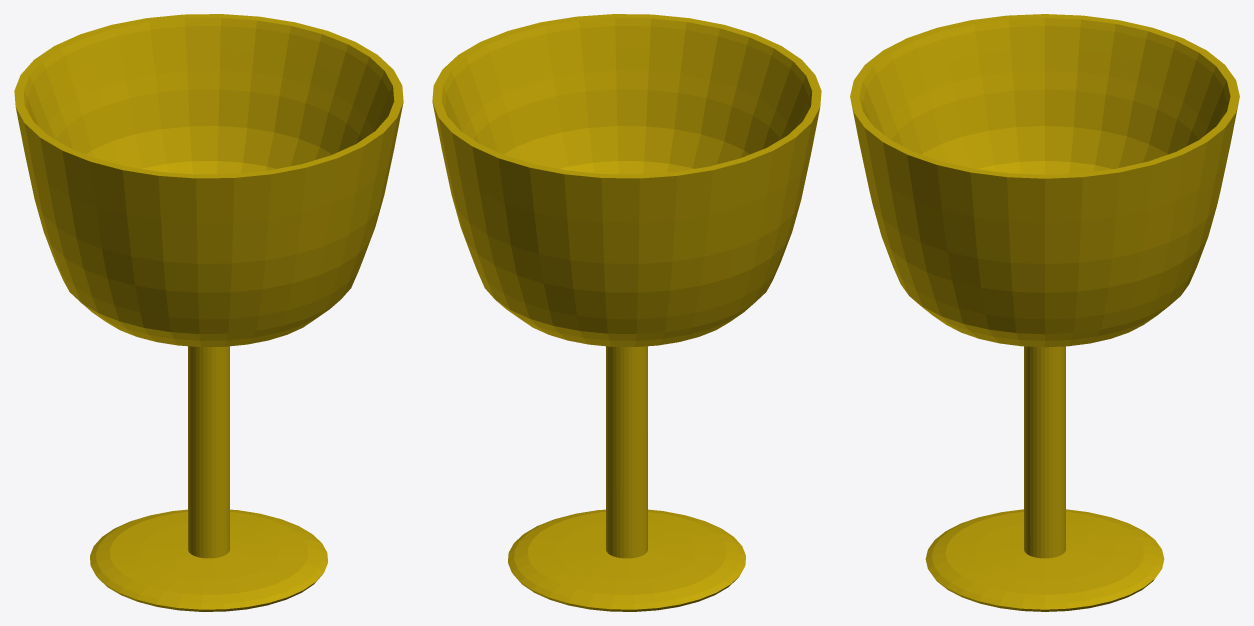
File: Goblet.obj
3 views of the same model, side by side, from view 1: azimuth 30°, elevation 25°; view 2: azimuth 150°, elevation 25°; view 3: azimuth 270°, elevation 25° (orthographic).
Parts seen in each view (by area): view 1: Cylinder; view 2: Cylinder; view 3: Cylinder.
Boxes of the visible parts, x1,y1,x2,y2 form: Cylinder: (14,14,403,611); Cylinder: (432,14,821,611); Cylinder: (850,14,1239,611).
Size of the model in its own units: 0.189 by 0.2493 by 0.189.
